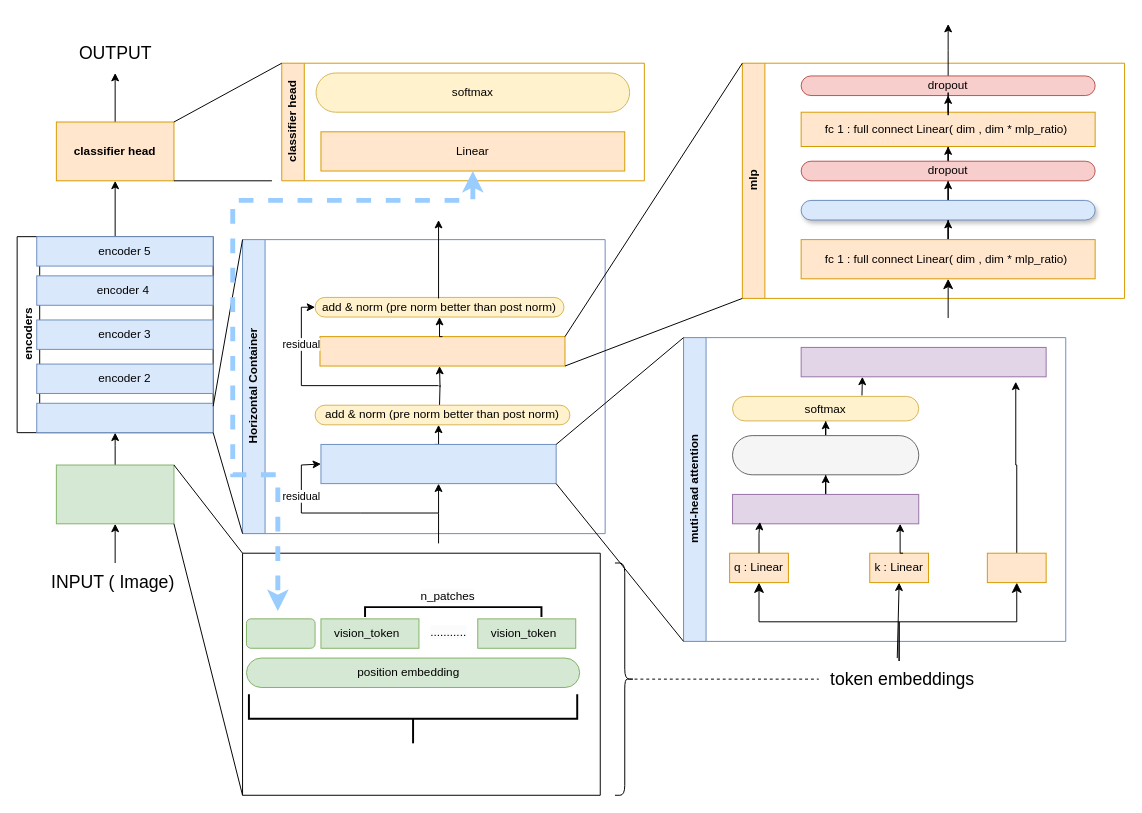
This 1142x813 diagram has some shape labels left out. The shapes that lost their labels are listed below. From the top down, each one's centre as x and y in pixels, then its label:
At (x=948, y=211): "activate (GELU)".
At (x=442, y=351): "FFN == MLP".
At (x=923, y=361): "matmul : softmax(q * k * scale) * v".
At (x=124, y=417): "encoder 1".
At (x=438, y=463): "MSA / MHA ： Multi-head attention".
At (x=825, y=455): "scale : k_dim ** -0.5 $\var\sqrt{d_k}$".
At (x=114, y=494): "patch embedding".
At (x=825, y=508): "matmul : q * k".
At (x=1016, y=567): "v : Linear".
At (x=280, y=633): "cls_token".
At (x=412, y=718): "n_patches + 1".
